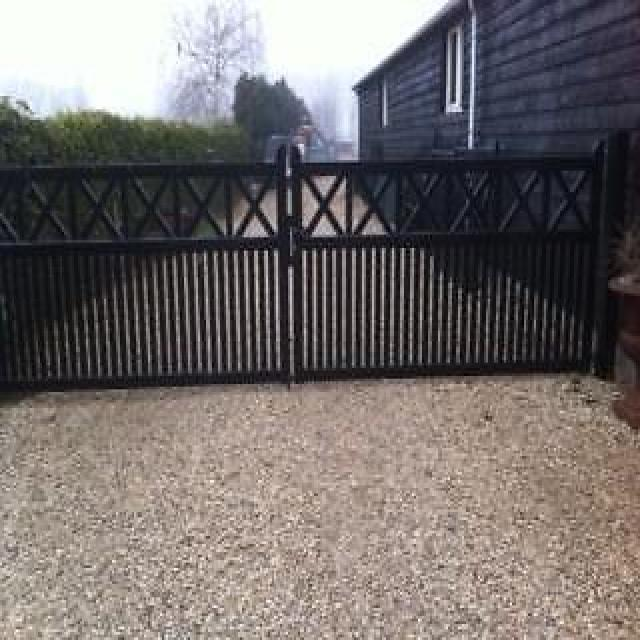fence line: (16, 149, 598, 395)
